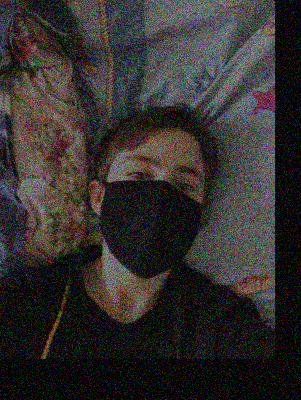with_mask: (99, 143, 205, 279)
